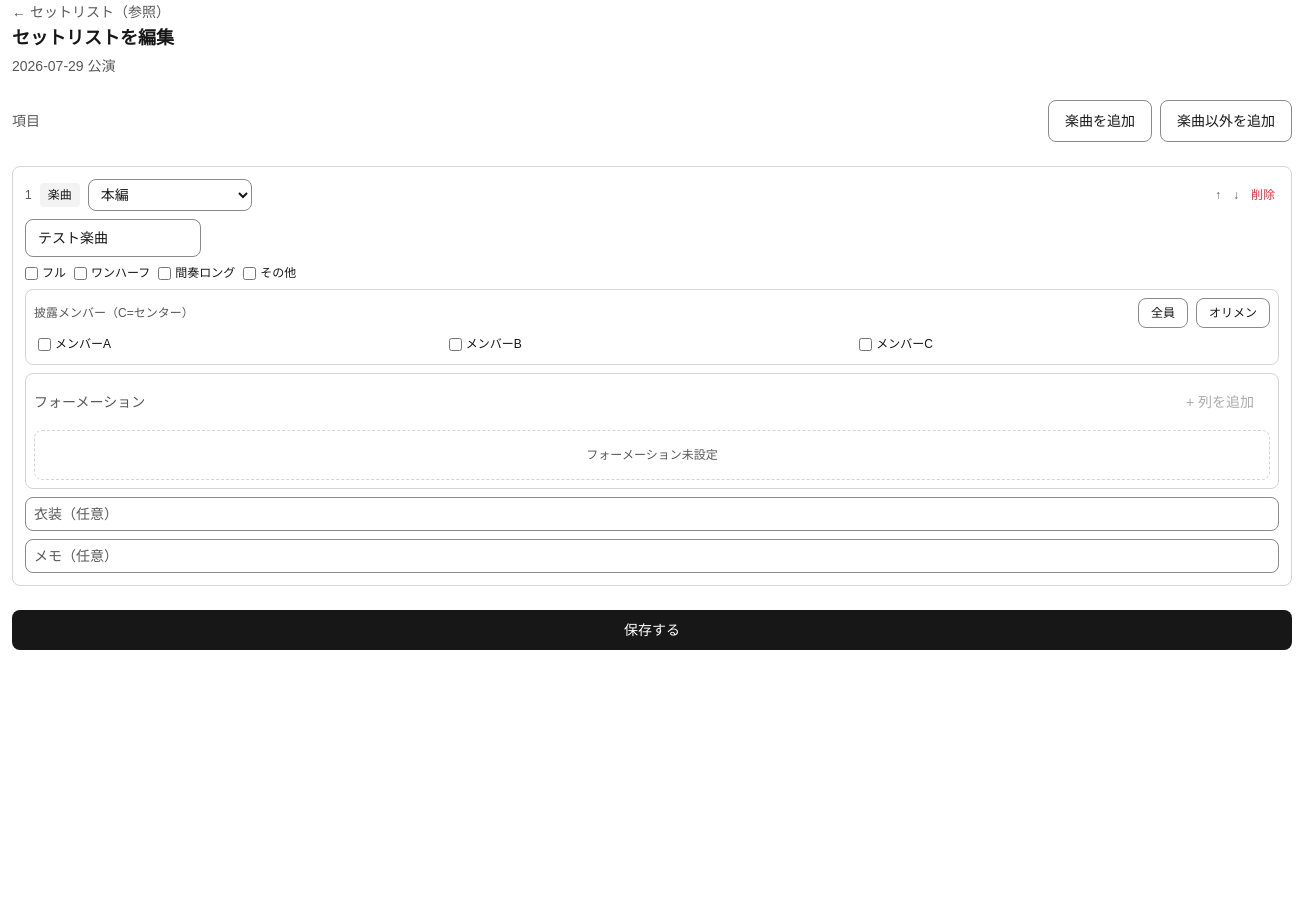
Test: SetlistEditor のセンター切り替え › センターが2人に達すると3人目のセンター切り替えがdisabledになり、既にセンターの2人はdisabledにならないこと
Click the checkbox labelled "メンバーA".
click(44, 344)  # box [38,338,51,350]
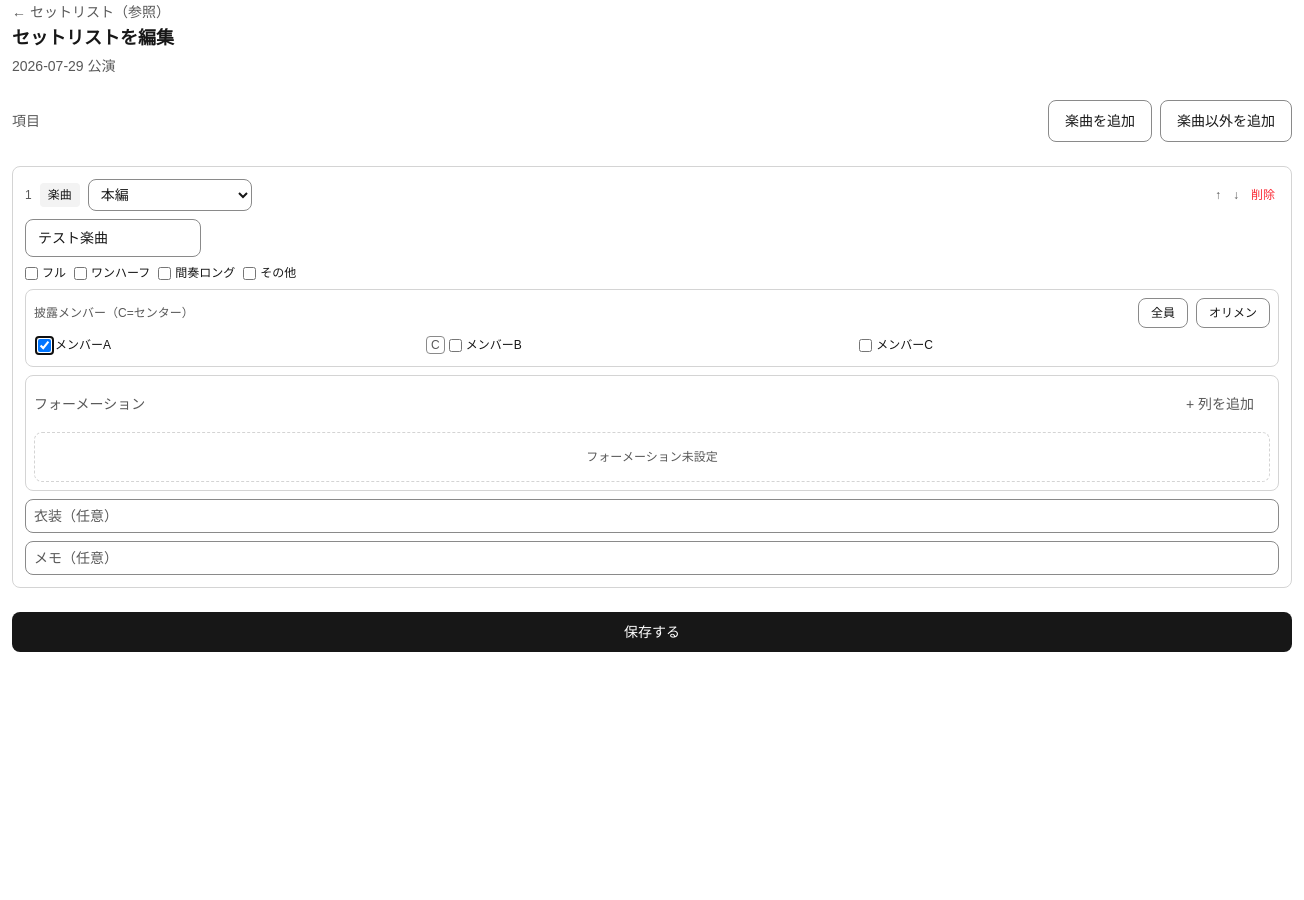
Click the checkbox labelled "メンバーB".
click(455, 345)  # box [449,338,462,352]
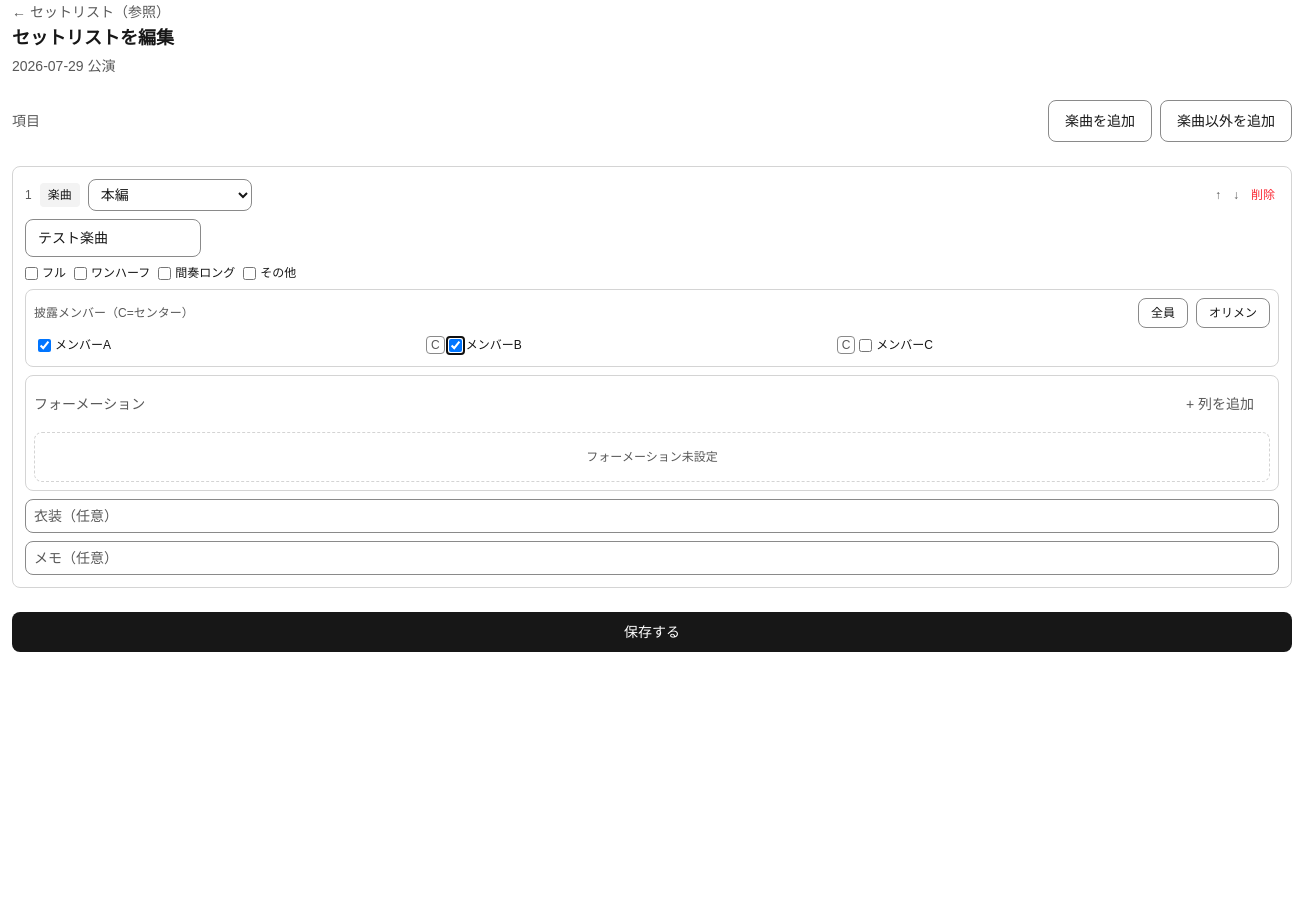
Click the checkbox labelled "メンバーC".
click(866, 345)  # box [859,338,872,352]
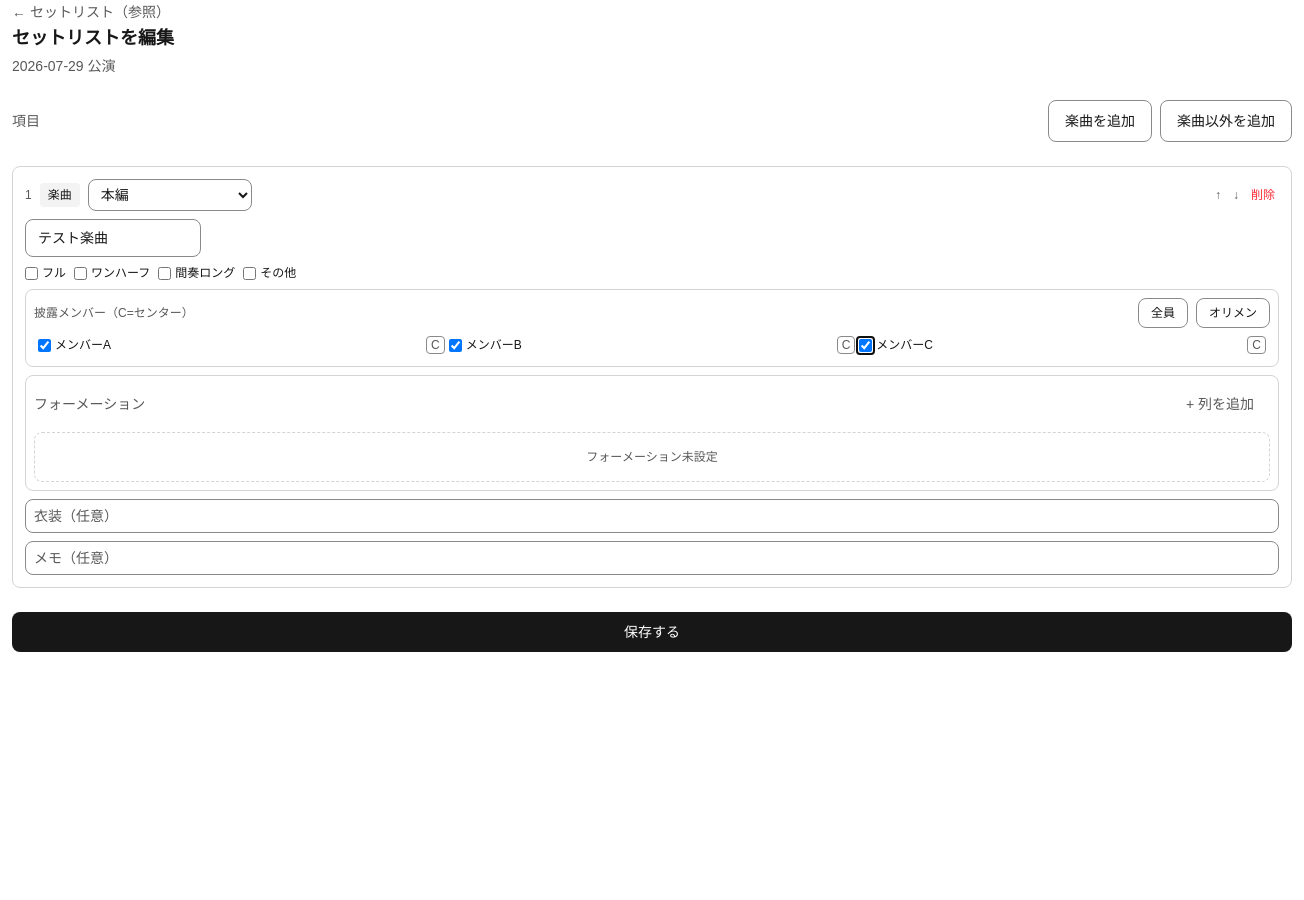
Click the button named "C：センター切り替え（メンバーA）".
click(435, 345)  # box [426,336,445,354]
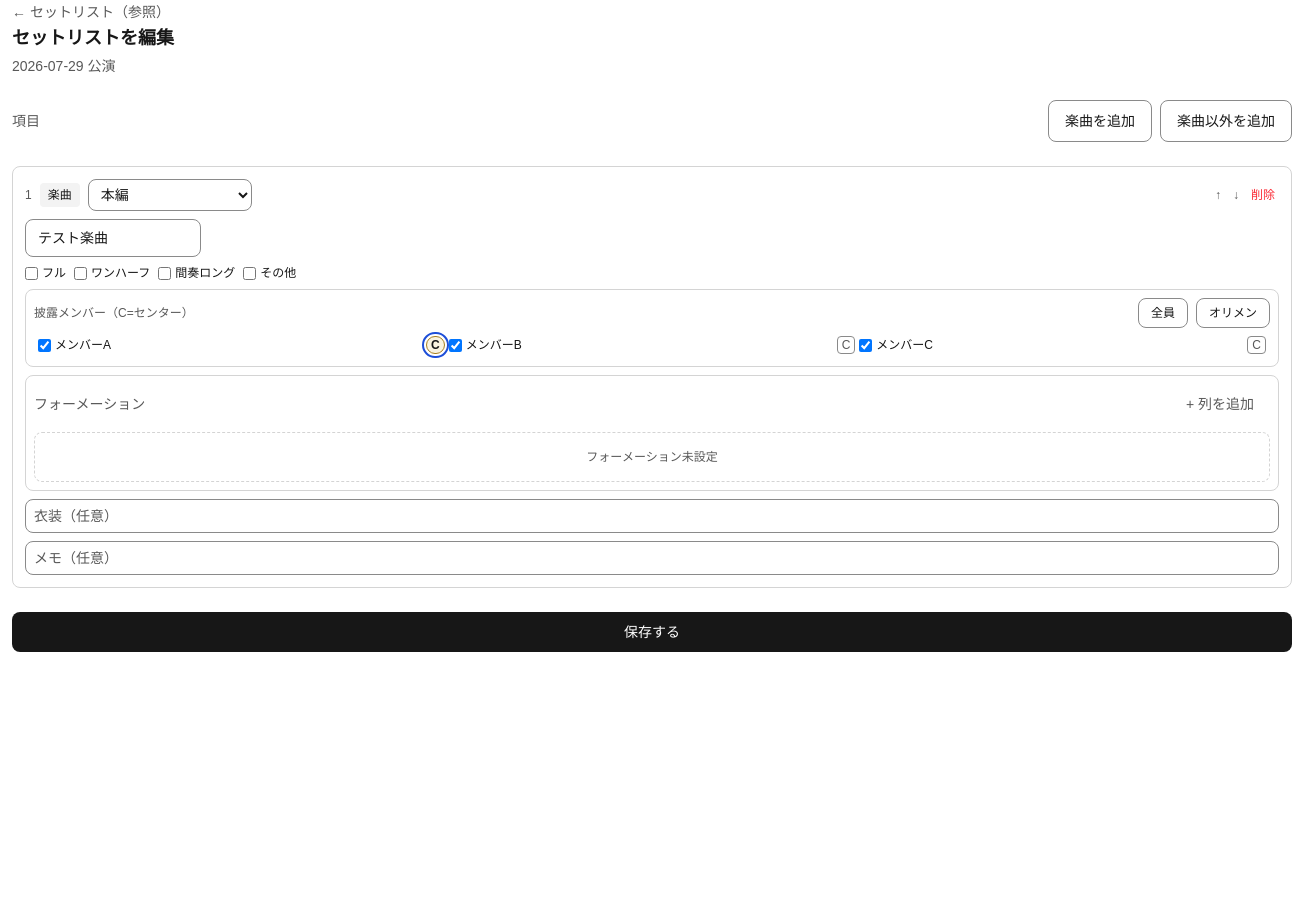
Click the button named "C：センター切り替え（メンバーB）".
click(846, 345)  # box [837,336,855,354]
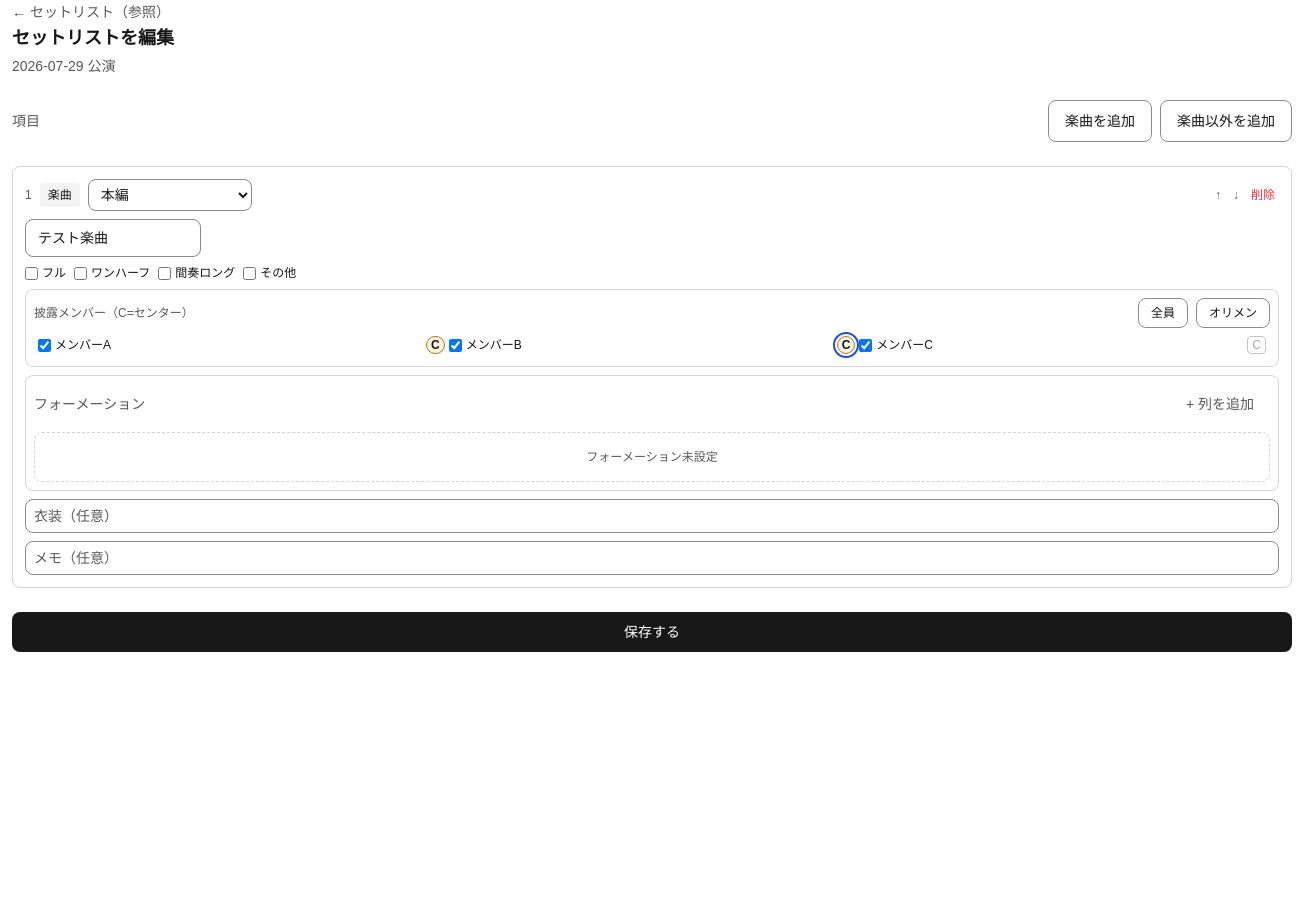
Check: the button named "C：センター切り替え（メンバーA）" is enabled, box [426,336,445,354]
Check: the button named "C：センター切り替え（メンバーB）" is enabled, box [837,336,855,354]
Check: the button named "C：センター切り替え（メンバーC）" is disabled, box [1247,336,1266,354]
